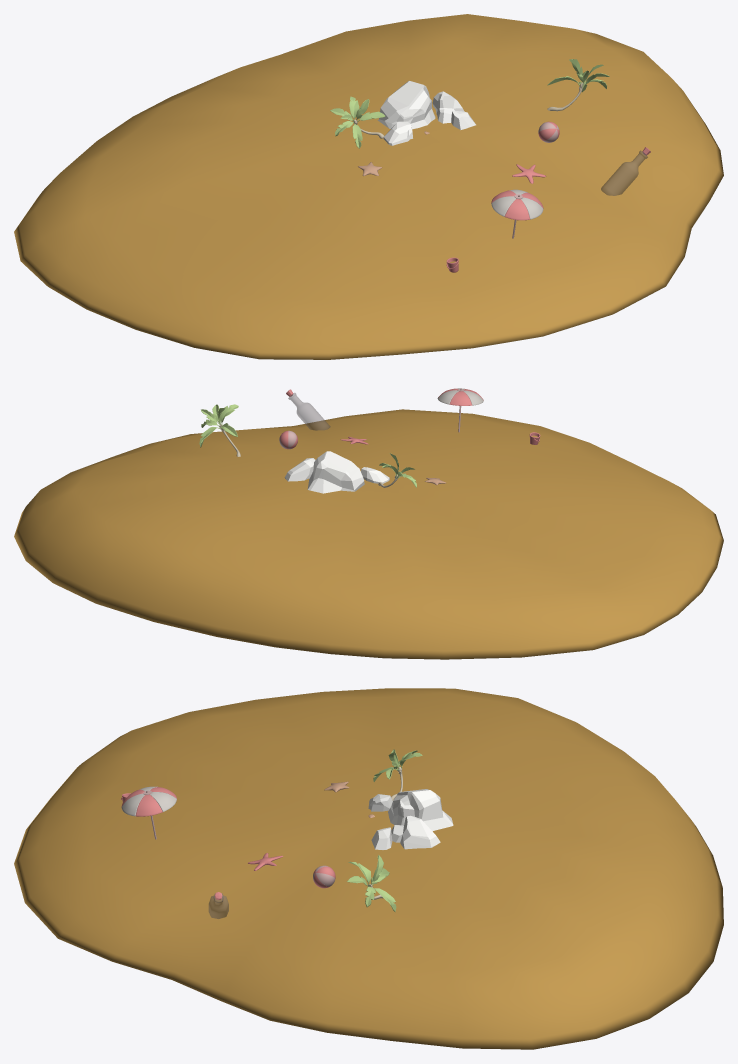
Rendered from beach_island.glb.
3 views of the same model, one above another, from view 1: azimuth 30°, elevation 25°; view 2: azimuth 150°, elevation 25°; view 3: azimuth 270°, elevation 25° (orthographic). The views are drawn at different scales.
Parts seen in each view (by area): view 1: sand, rock, leaf (×2), Cube 17; view 2: sand, rock, leaf, Cube 17; view 3: sand, rock, leaf.
Boxes of the visible parts, left/top/right/bottom form: sand: left=14, top=14, right=723, bottom=359; rock: left=377, top=81, right=475, bottom=145; leaf (×2): left=330, top=59, right=609, bottom=148; Cube 17: left=601, top=150, right=647, bottom=195; sand: left=14, top=409, right=723, bottom=659; rock: left=284, top=451, right=389, bottom=493; leaf: left=199, top=404, right=238, bottom=447; Cube 17: left=288, top=393, right=330, bottom=430; sand: left=14, top=688, right=723, bottom=1049; rock: left=368, top=789, right=453, bottom=849; leaf: left=347, top=855, right=396, bottom=911.
Size of what is drawn, in the model's own units: 44.18 by 6.79 by 37.52.
